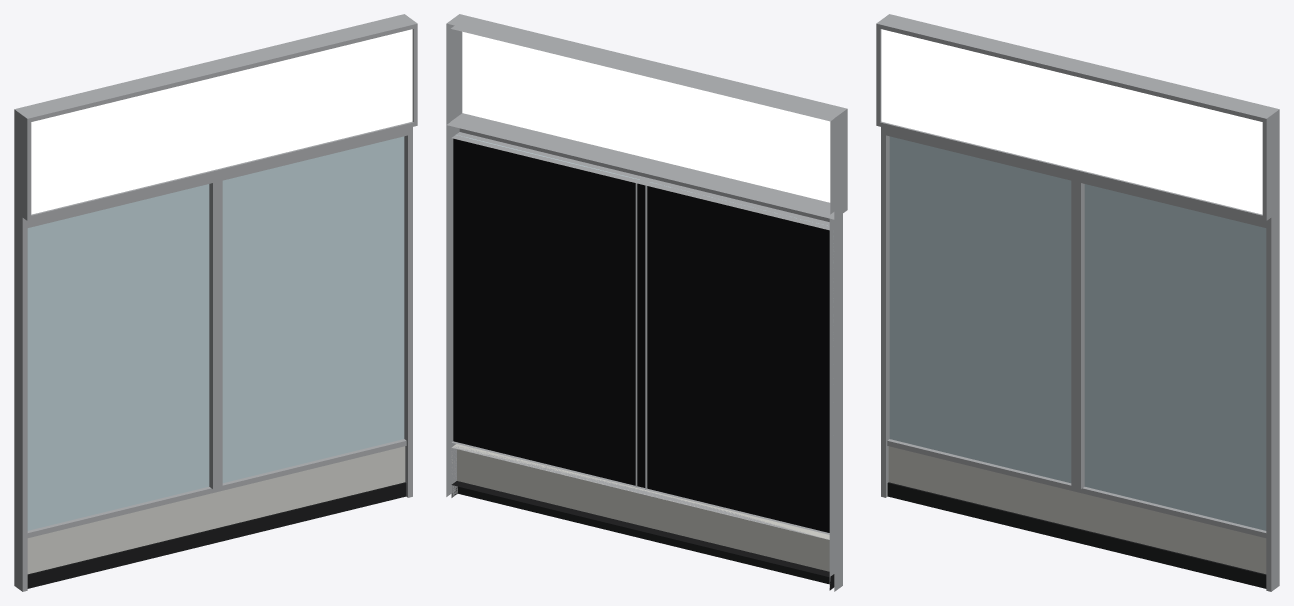
The model's file is gteki_shopfront_glazing_w2400.glb.
The picture shows the model from 3 angles, left to right: view 1: azimuth 30°, elevation 25°; view 2: azimuth 150°, elevation 25°; view 3: azimuth 330°, elevation 25°; orthographic projection.
Visible parts, largest first — view 1: VIS_body; view 2: VIS_body; view 3: VIS_body.
Boxes of the visible parts, x1=… form: VIS_body: x1=14, y1=14, x2=417, y2=591; VIS_body: x1=446, y1=14, x2=847, y2=591; VIS_body: x1=876, y1=14, x2=1279, y2=591.
Bounding box in the file's own units: 2.4 × 2.8 × 0.14.
3 materials, 2 textured.
